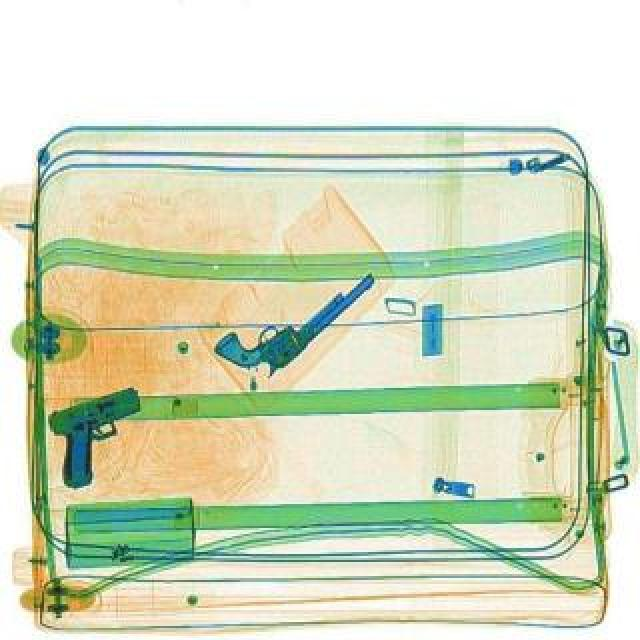gun: (210, 248, 394, 390), (40, 382, 164, 486)
